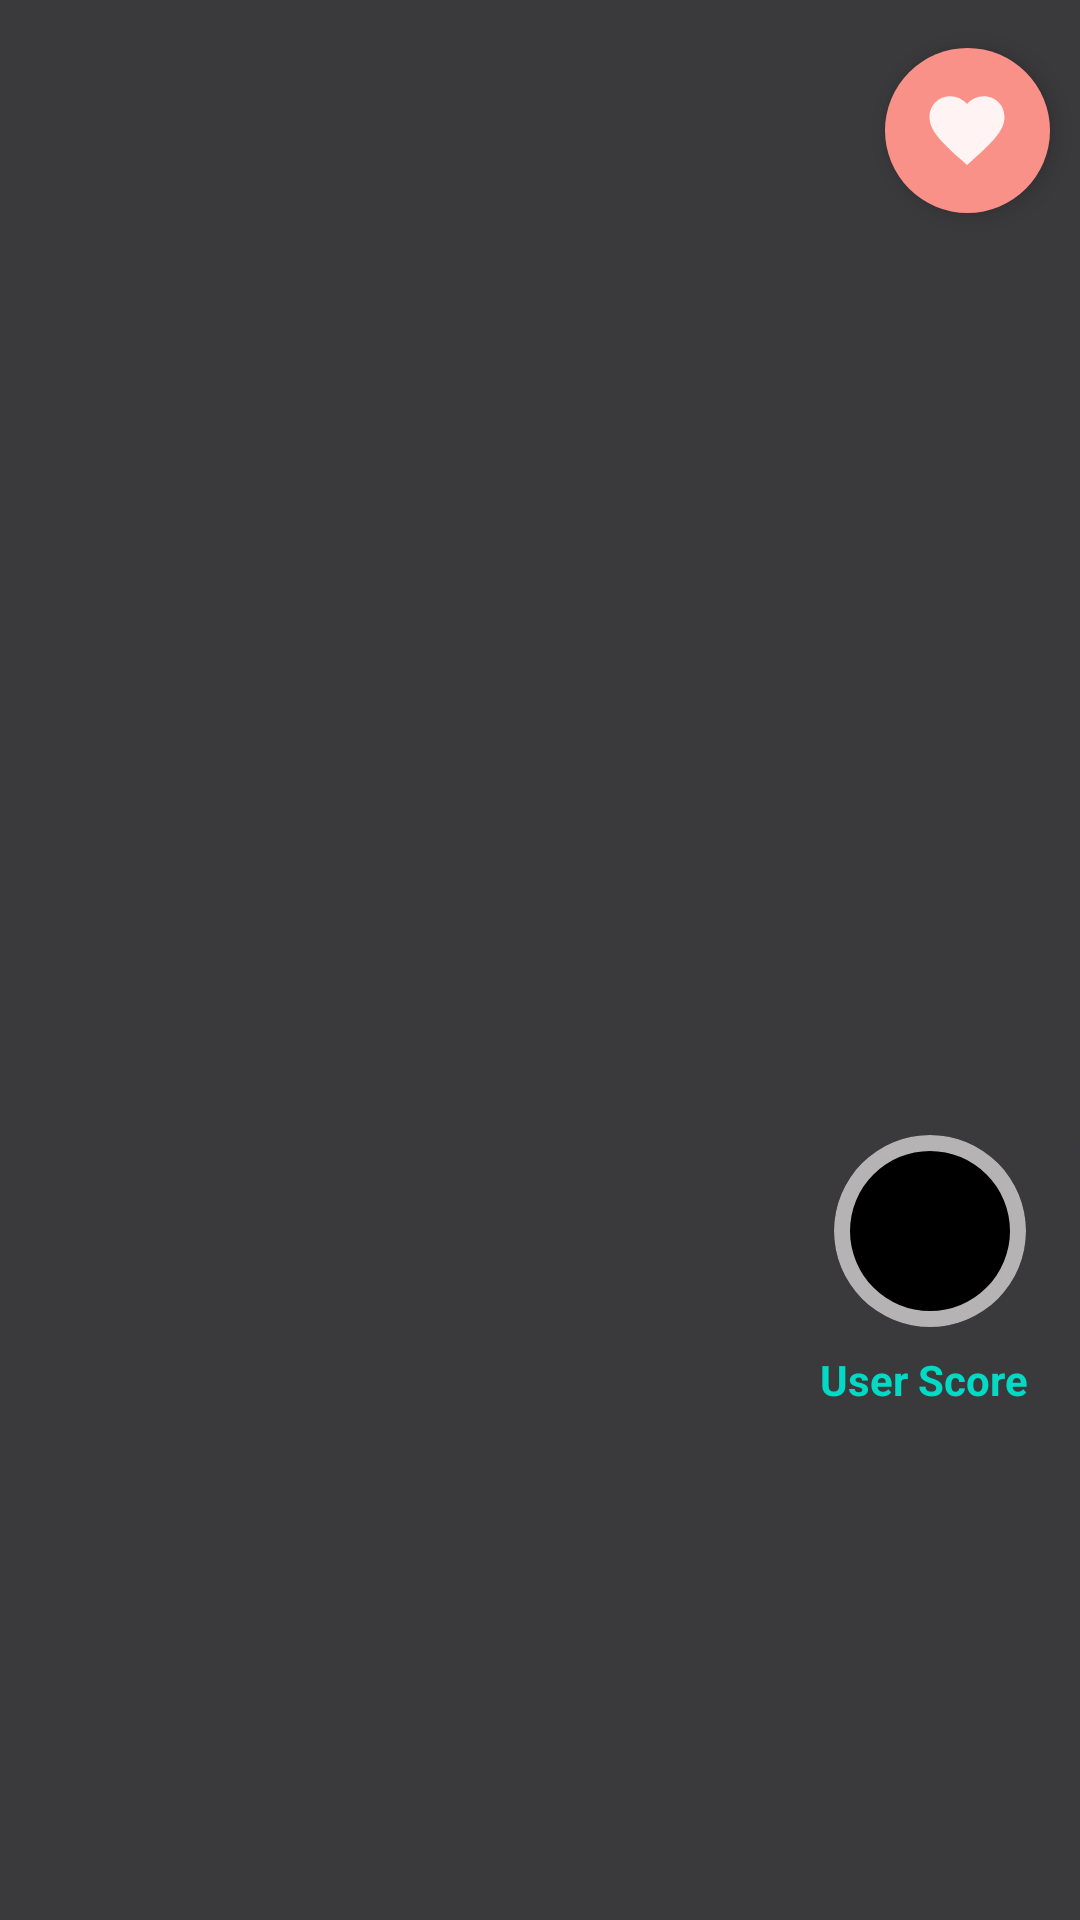

Locate icon controls on the screen. Image size 1080px x 1920px, boxes as (x1, y1, x2, y2).
Favorite: (885, 48, 1050, 213)
